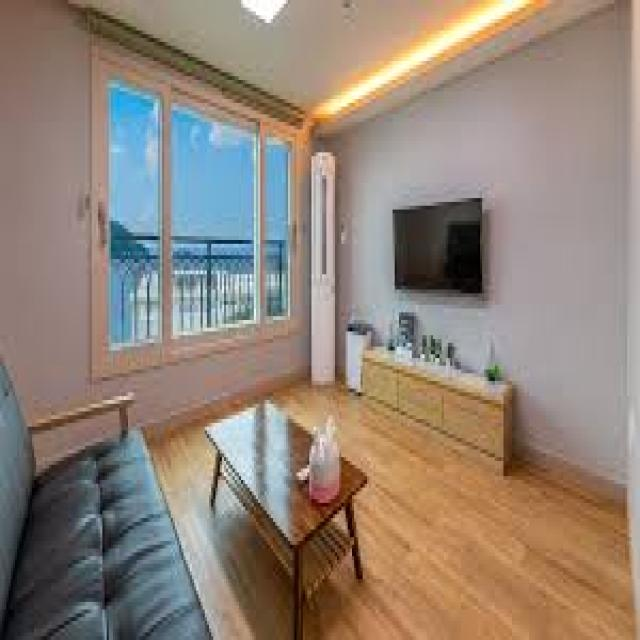Sofa: (0, 349, 211, 638)
Table: (206, 396, 376, 632)
tv: (390, 204, 489, 291)
window: (93, 44, 298, 321)
